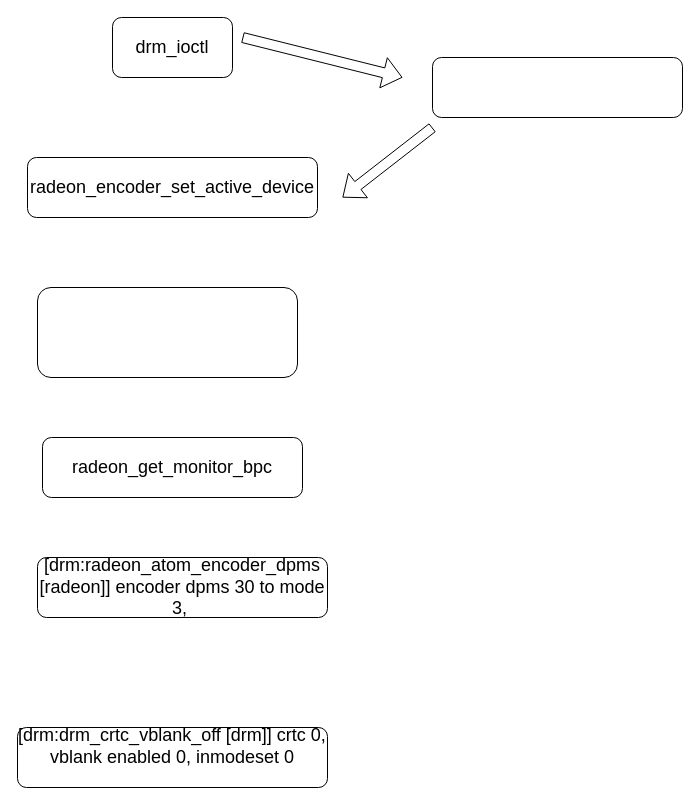
The diagram is 700 pixels wide and 807 high, and some of its shapes have lost their labels. Here are the shapes that lost their labels. From the top down, the centre of each, then its label:
At [557,87]: "radeon_atom_mode_fixup || radeon_legacy_mode_fixup".
At [167,332]: "drm_crtc_helper_set_mode [drm_kms_helper]] [CRTC:39:crtc-0]".
